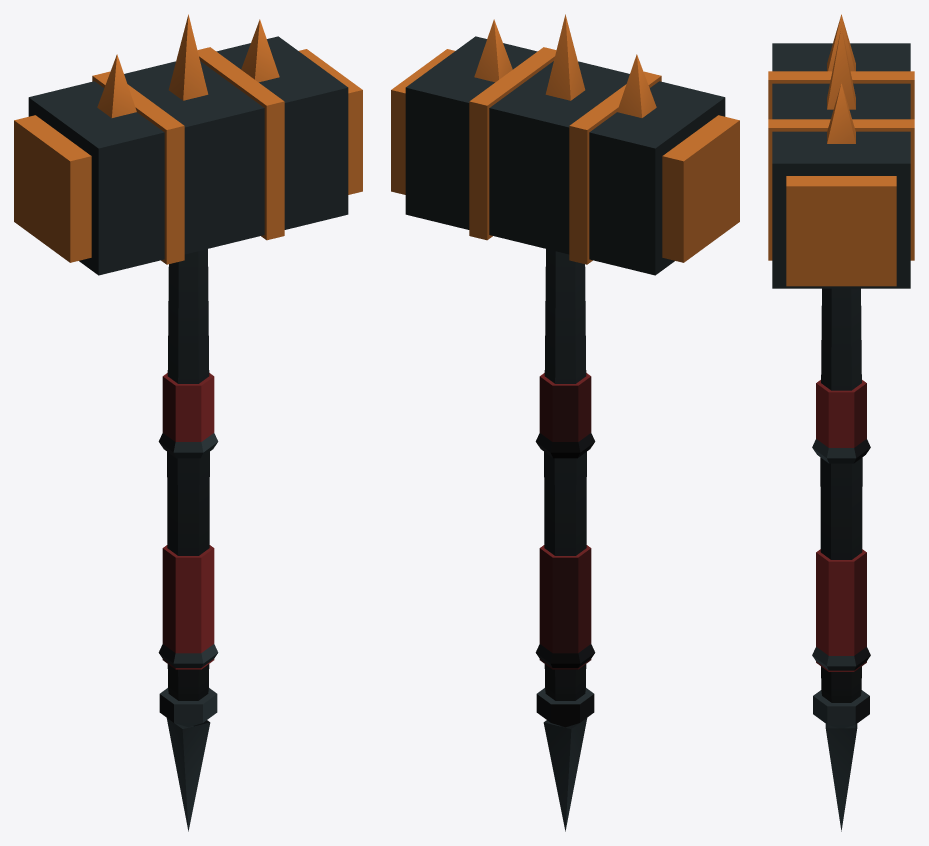
File: uniq_cinder_maul.gltf
3 views of the same model, side by side, from view 1: azimuth 30°, elevation 25°; view 2: azimuth 150°, elevation 25°; view 3: azimuth 270°, elevation 25° (orthographic).
Parts seen in each view (by area): view 1: uniq_cinder_maul; view 2: uniq_cinder_maul; view 3: uniq_cinder_maul.
Boxes of the visible parts, x1=… form: uniq_cinder_maul: x1=14, y1=14, x2=362, y2=831; uniq_cinder_maul: x1=391, y1=14, x2=739, y2=831; uniq_cinder_maul: x1=768, y1=14, x2=914, y2=831.
Bounding box in the file's own units: 0.82 × 2.19 × 0.3604.
1 material, 1 textured.
